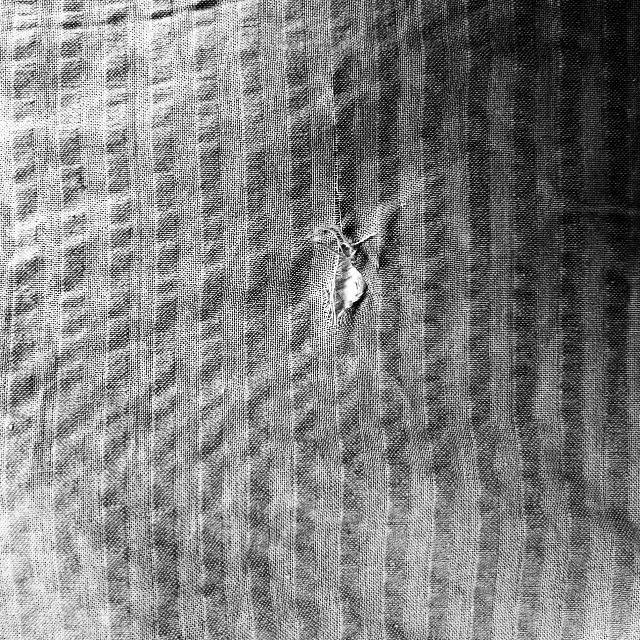Hole: (277, 243, 396, 340)
